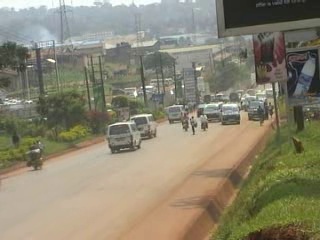Car: (194, 101, 206, 117)
Motorcycle: (27, 154, 43, 171), (179, 116, 188, 132)
